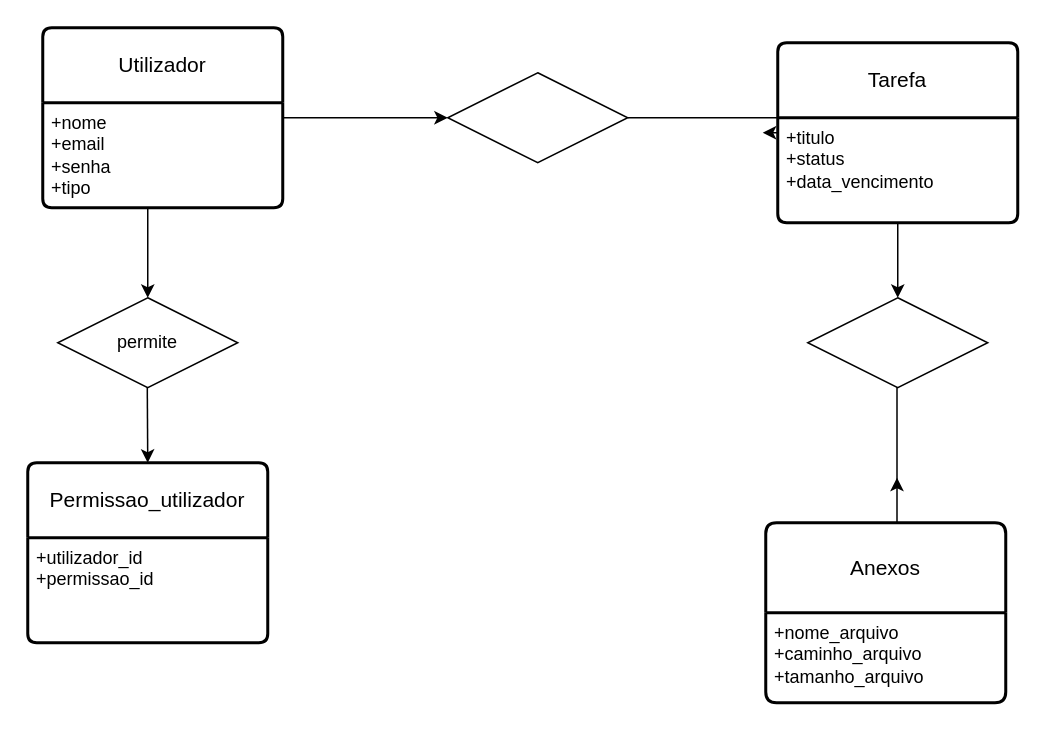
Some shapes in this 1044 by 729 pixel diagram are drawn without their labels. The shapes that lost their labels are listed below. From the top down, each one's centre as x and y in pixels, then its label:
pixel 537 117: cria
pixel 897 342: adiciona
